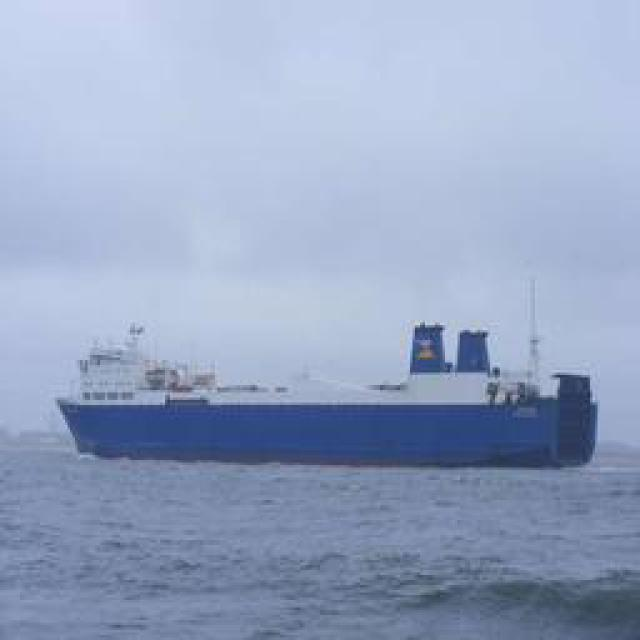Ship: (51, 305, 611, 470)
